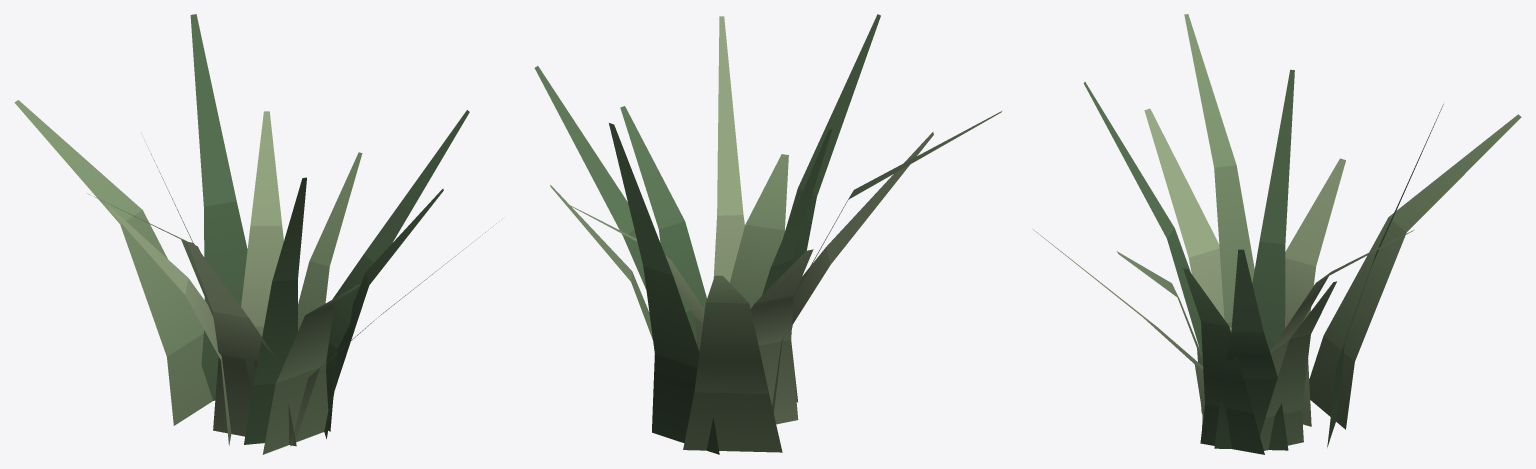
Rendered from mangrove-ground-detail.glb.
3 renders of one model, left to right at view 1: azimuth 30°, elevation 25°; view 2: azimuth 150°, elevation 25°; view 3: azimuth 270°, elevation 25°, orthographic. The views are drawn at different scales.
Parts seen in each view (by area): view 1: mangrove; view 2: mangrove; view 3: mangrove.
Boxes of the visible parts, <box> form: mangrove: <box>14,14,499,454</box>; mangrove: <box>534,14,1001,454</box>; mangrove: <box>1033,14,1521,454</box>.
Size of the model in its own units: 0.5779 by 0.4556 by 0.6031.
